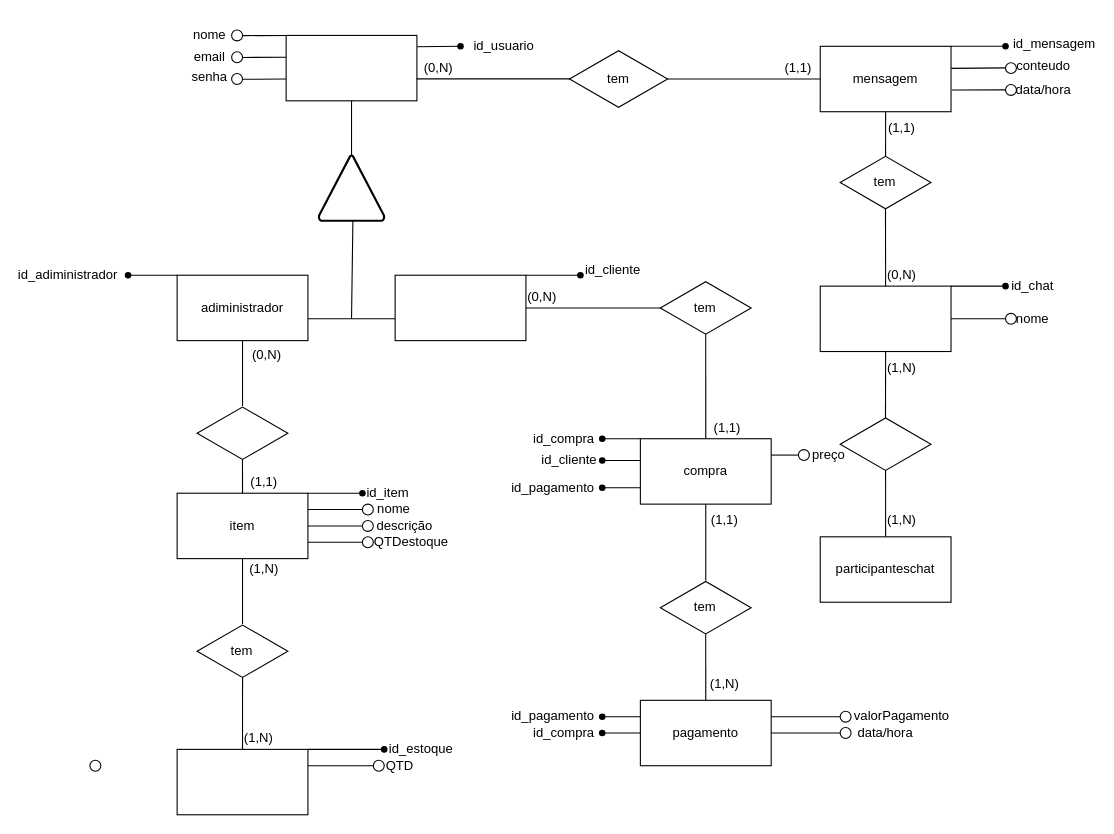
Some shapes in this 1114 by 834 pixel diagram are drawn without their labels. The shapes that lost their labels are listed below. From the top down, each one's centre as x and y in pixels, then its label:
At point (351, 67): "usuario".
At point (460, 307): "cliente".
At point (885, 318): "chat".
At point (242, 433): "adiministra".
At point (885, 443): "compõe".
At point (242, 781): "estoque".
